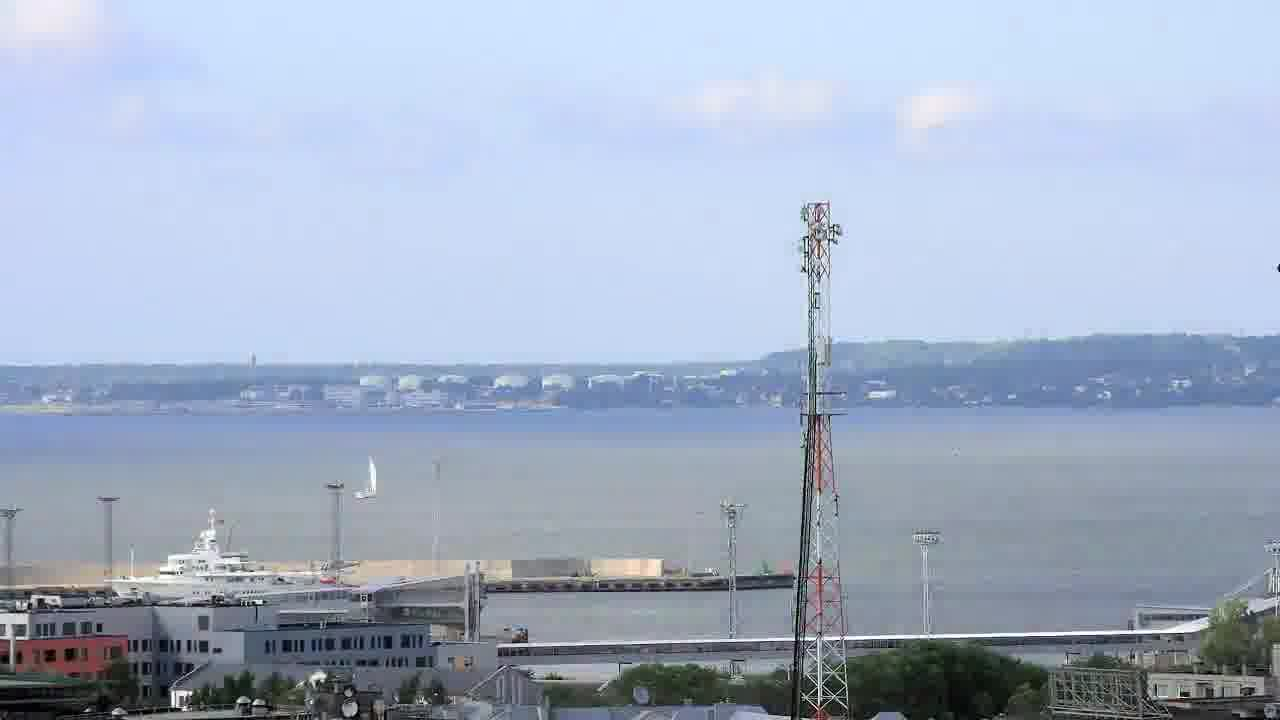type-2: (338, 446, 396, 512)
type-3: (84, 515, 355, 603)
